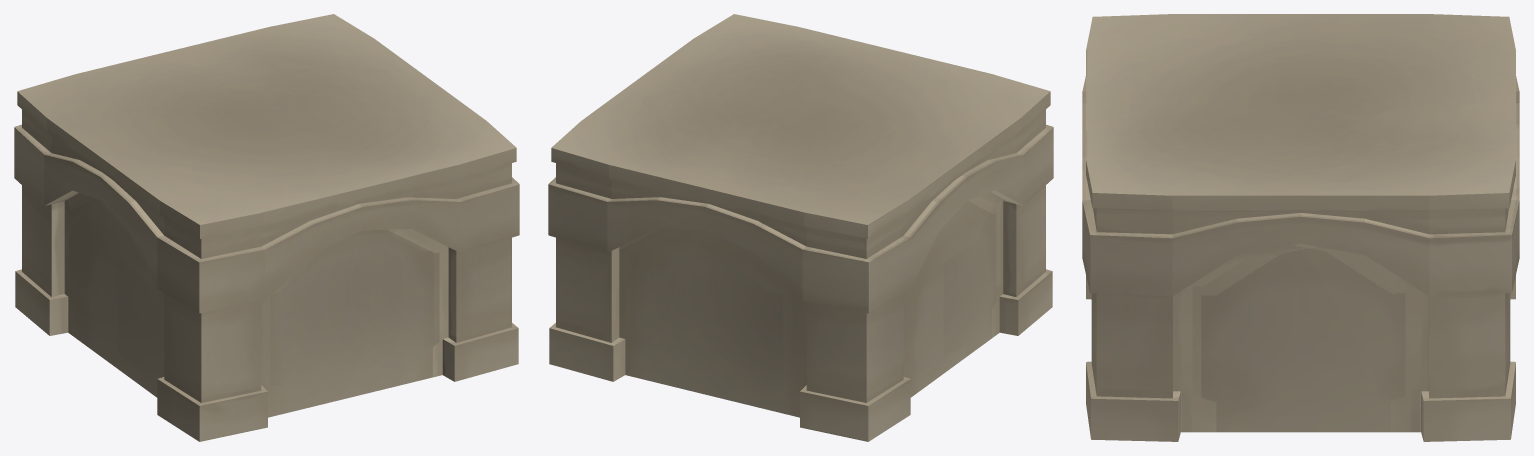
Rendered from platform.fbx.
3 renders of one model, left to right at view 1: azimuth 30°, elevation 25°; view 2: azimuth 150°, elevation 25°; view 3: azimuth 270°, elevation 25°, orthographic. The views are drawn at different scales.
Parts seen in each view (by area): view 1: platform; view 2: platform; view 3: platform.
Part boxes in pixels (x1=…): platform: x1=14, y1=14, x2=519, y2=441; platform: x1=548, y1=14, x2=1053, y2=441; platform: x1=1082, y1=14, x2=1519, y2=441.
Size of the model in its own units: 593 by 368 by 593.
